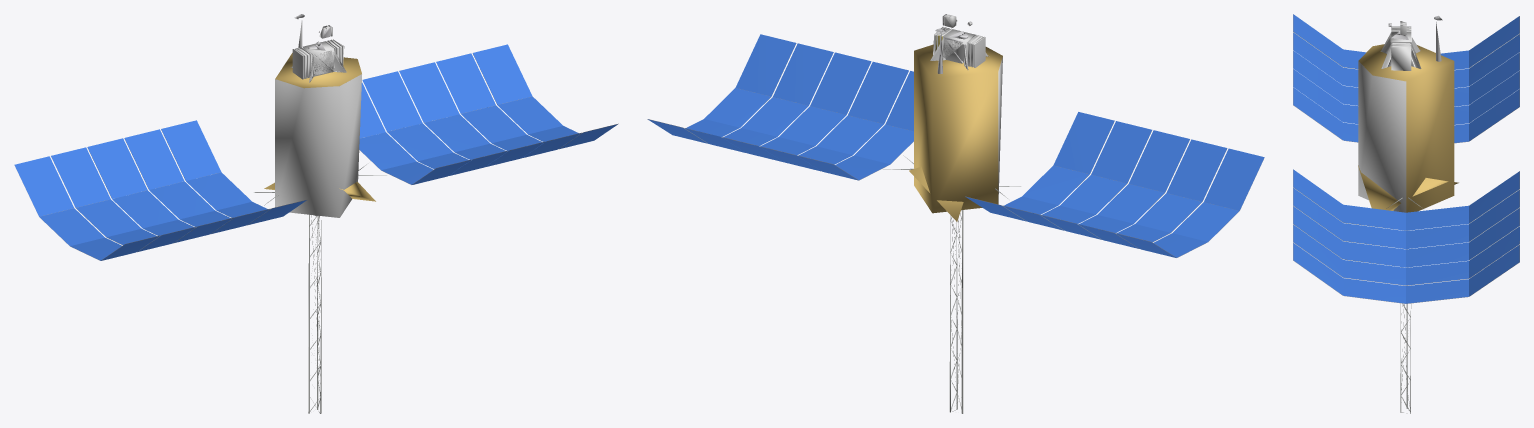
File: satellite-for-scientific-applications-sac-c.glb
The picture shows the model from 3 angles, left to right: view 1: azimuth 30°, elevation 25°; view 2: azimuth 150°, elevation 25°; view 3: azimuth 270°, elevation 25°; orthographic projection. The views are drawn at different scales.
Visible parts, largest first — view 1: Fake; view 2: Fake; view 3: Fake.
Part boxes in pixels (x1=…): Fake: x1=14, y1=14, x2=618, y2=413; Fake: x1=647, y1=14, x2=1264, y2=413; Fake: x1=1293, y1=14, x2=1519, y2=413.
Bounding box in the file's own units: 60.24 × 44.87 × 23.46.
Materials: 1 (1 with a texture image).
